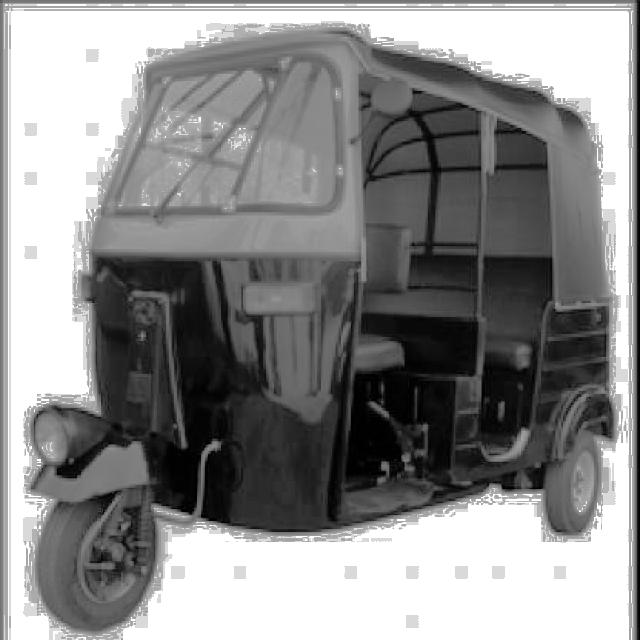Auto-Rickshaw: (31, 23, 612, 632)
